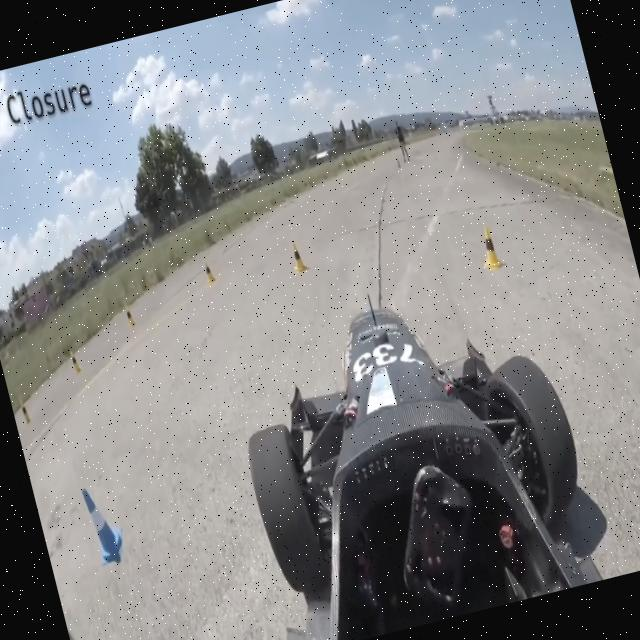blue_cone: (80, 480, 129, 566)
yellow_cone: (475, 222, 506, 274), (288, 240, 308, 276), (202, 260, 218, 286)
